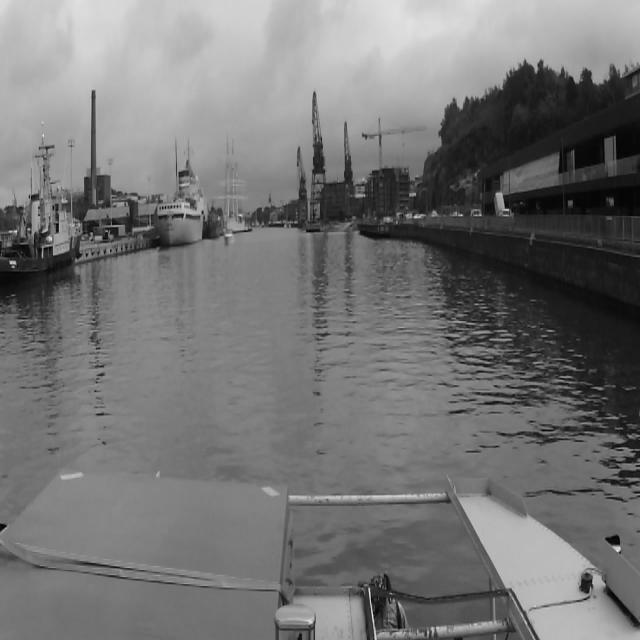ship: (4, 137, 82, 289), (157, 168, 203, 248), (211, 135, 245, 232), (204, 206, 220, 239), (225, 230, 233, 244)
